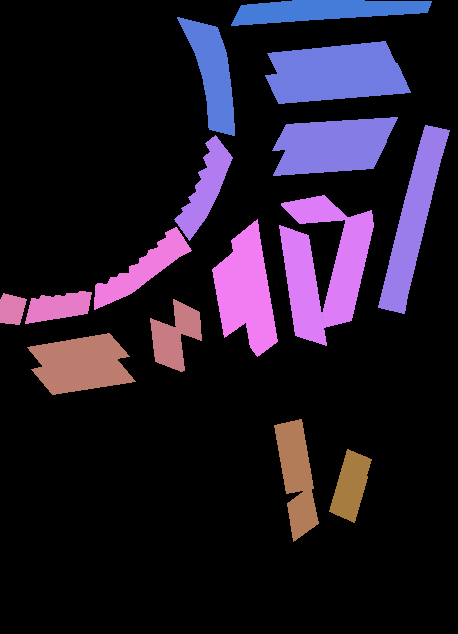parkingspot: (378, 125, 449, 313), (94, 227, 191, 309), (177, 17, 234, 135), (231, 219, 277, 356), (174, 135, 232, 240), (322, 210, 373, 327), (265, 63, 410, 103), (279, 225, 326, 345), (231, 0, 431, 25), (267, 41, 396, 76), (272, 117, 397, 150), (31, 357, 135, 394), (273, 141, 386, 175), (27, 333, 129, 369), (212, 249, 248, 337), (329, 449, 371, 522), (274, 419, 313, 493), (25, 291, 91, 323), (281, 195, 349, 223), (150, 318, 184, 371), (287, 486, 318, 541), (173, 299, 201, 340), (0, 293, 26, 324)
